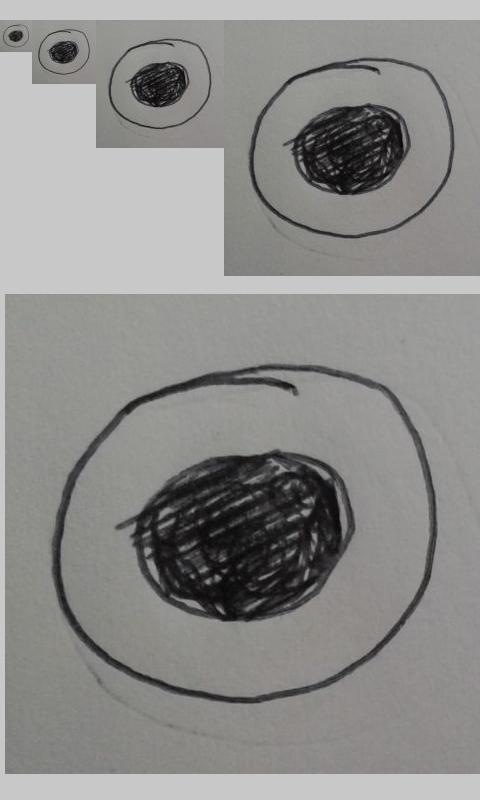radio_button: (49, 361, 440, 705), (247, 55, 457, 241), (108, 37, 213, 130), (37, 28, 90, 76), (2, 24, 30, 48)
